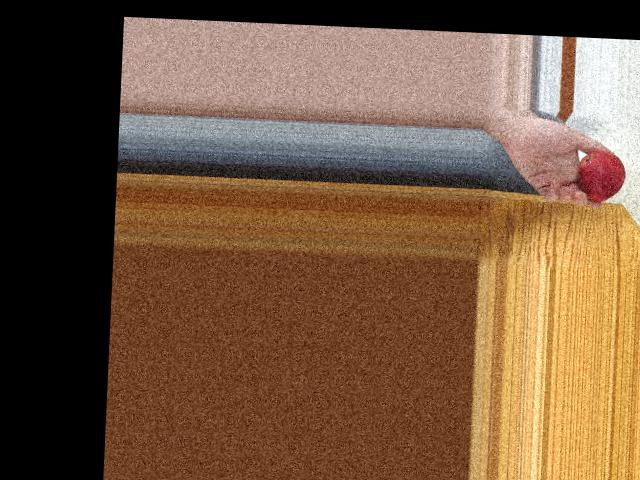apple: (576, 148, 628, 201)
